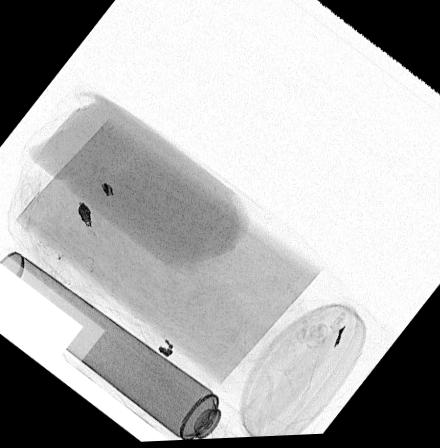Sprayer: (0, 249, 254, 442)
